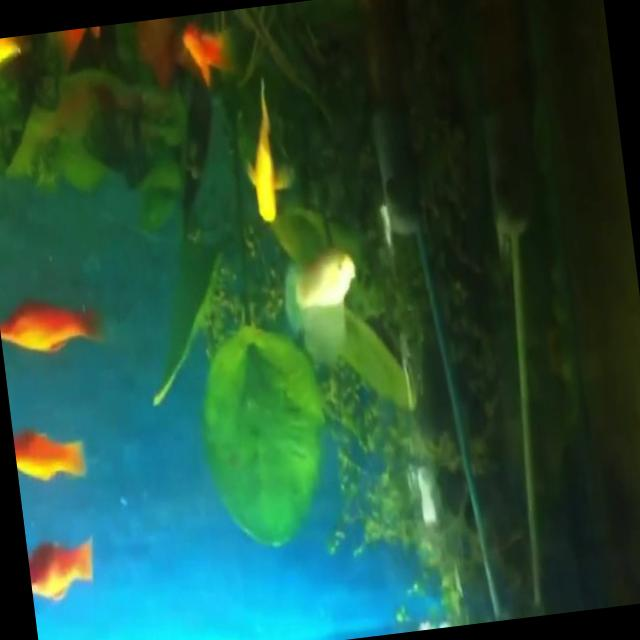PlatyFish: (265, 230, 378, 372), (0, 258, 118, 375)
